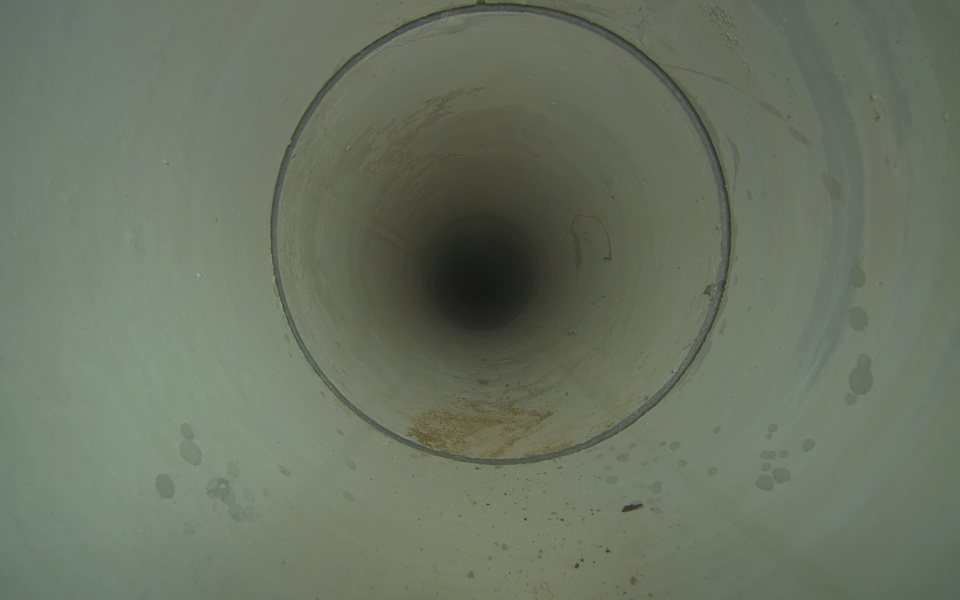circle1: (264, 2, 734, 467)
circle2: (457, 263, 501, 308)
